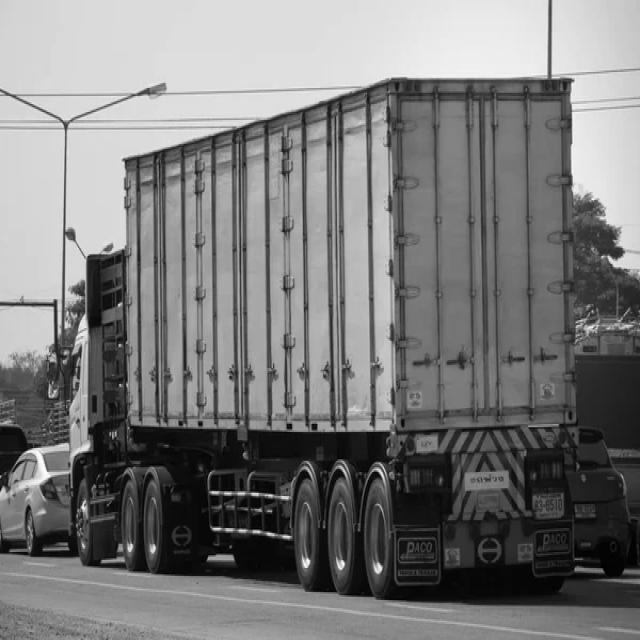Truck: (69, 78, 582, 600)
